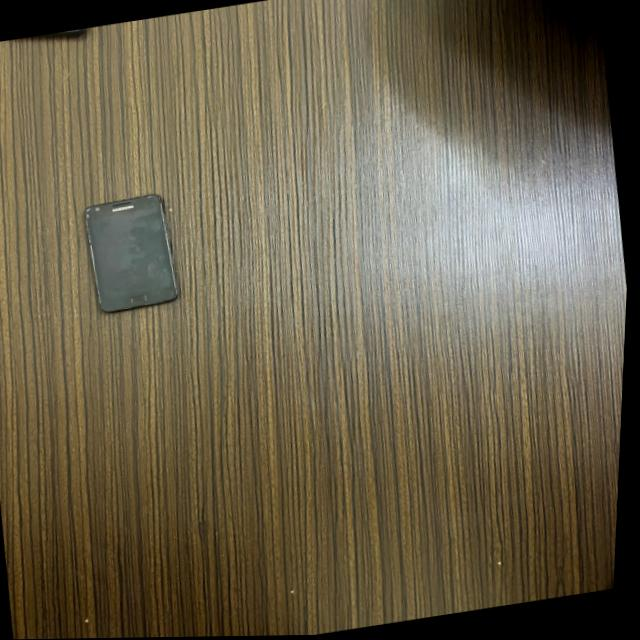Smartphone: (86, 194, 180, 313)
